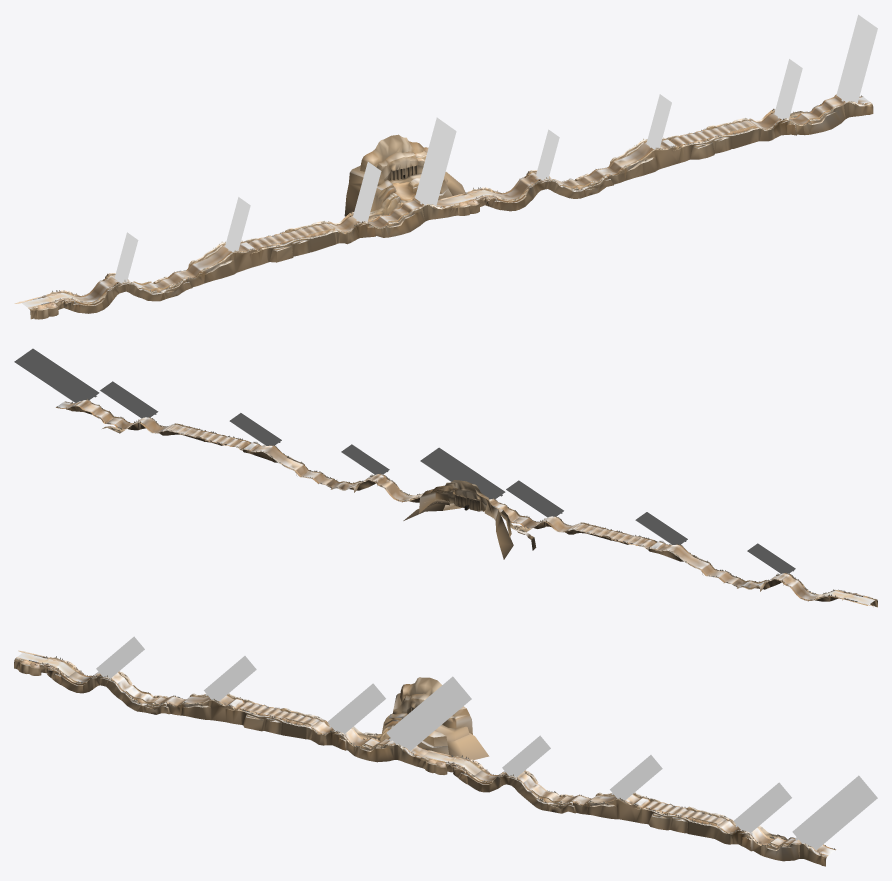
Rendered from Desert_04.fbx.
3 renders of one model, top to bottom at view 1: azimuth 30°, elevation 25°; view 2: azimuth 150°, elevation 25°; view 3: azimuth 330°, elevation 25°, orthographic. The views are drawn at different scales.
Parts seen in each view (by area): view 1: Mountain_01, Light_01, Ground_01, Road_01, Tree_01, Ground_02; view 2: Light_01, Ground_01, Mountain_01, Road_01, Tree_01; view 3: Mountain_01, Light_01, Ground_01, Road_01, Tree_01.
Boxes of the visible parts, left/top/right/bottom form: Mountain_01: left=29, top=101, right=873, bottom=319; Light_01: left=114, top=14, right=877, bottom=283; Ground_01: left=21, top=96, right=870, bottom=307; Road_01: left=28, top=94, right=870, bottom=308; Tree_01: left=41, top=95, right=865, bottom=305; Ground_02: left=14, top=140, right=702, bottom=309; Light_01: left=14, top=348, right=795, bottom=573; Ground_01: left=57, top=400, right=874, bottom=604; Mountain_01: left=60, top=400, right=877, bottom=607; Road_01: left=56, top=400, right=875, bottom=605; Tree_01: left=56, top=398, right=857, bottom=600; Mountain_01: left=14, top=657, right=831, bottom=866; Light_01: left=96, top=636, right=877, bottom=850; Ground_01: left=17, top=652, right=834, bottom=855; Road_01: left=16, top=657, right=835, bottom=855; Tree_01: left=34, top=656, right=835, bottom=855.
Bounding box in the file's own units: 93137 × 9260 × 7880.
